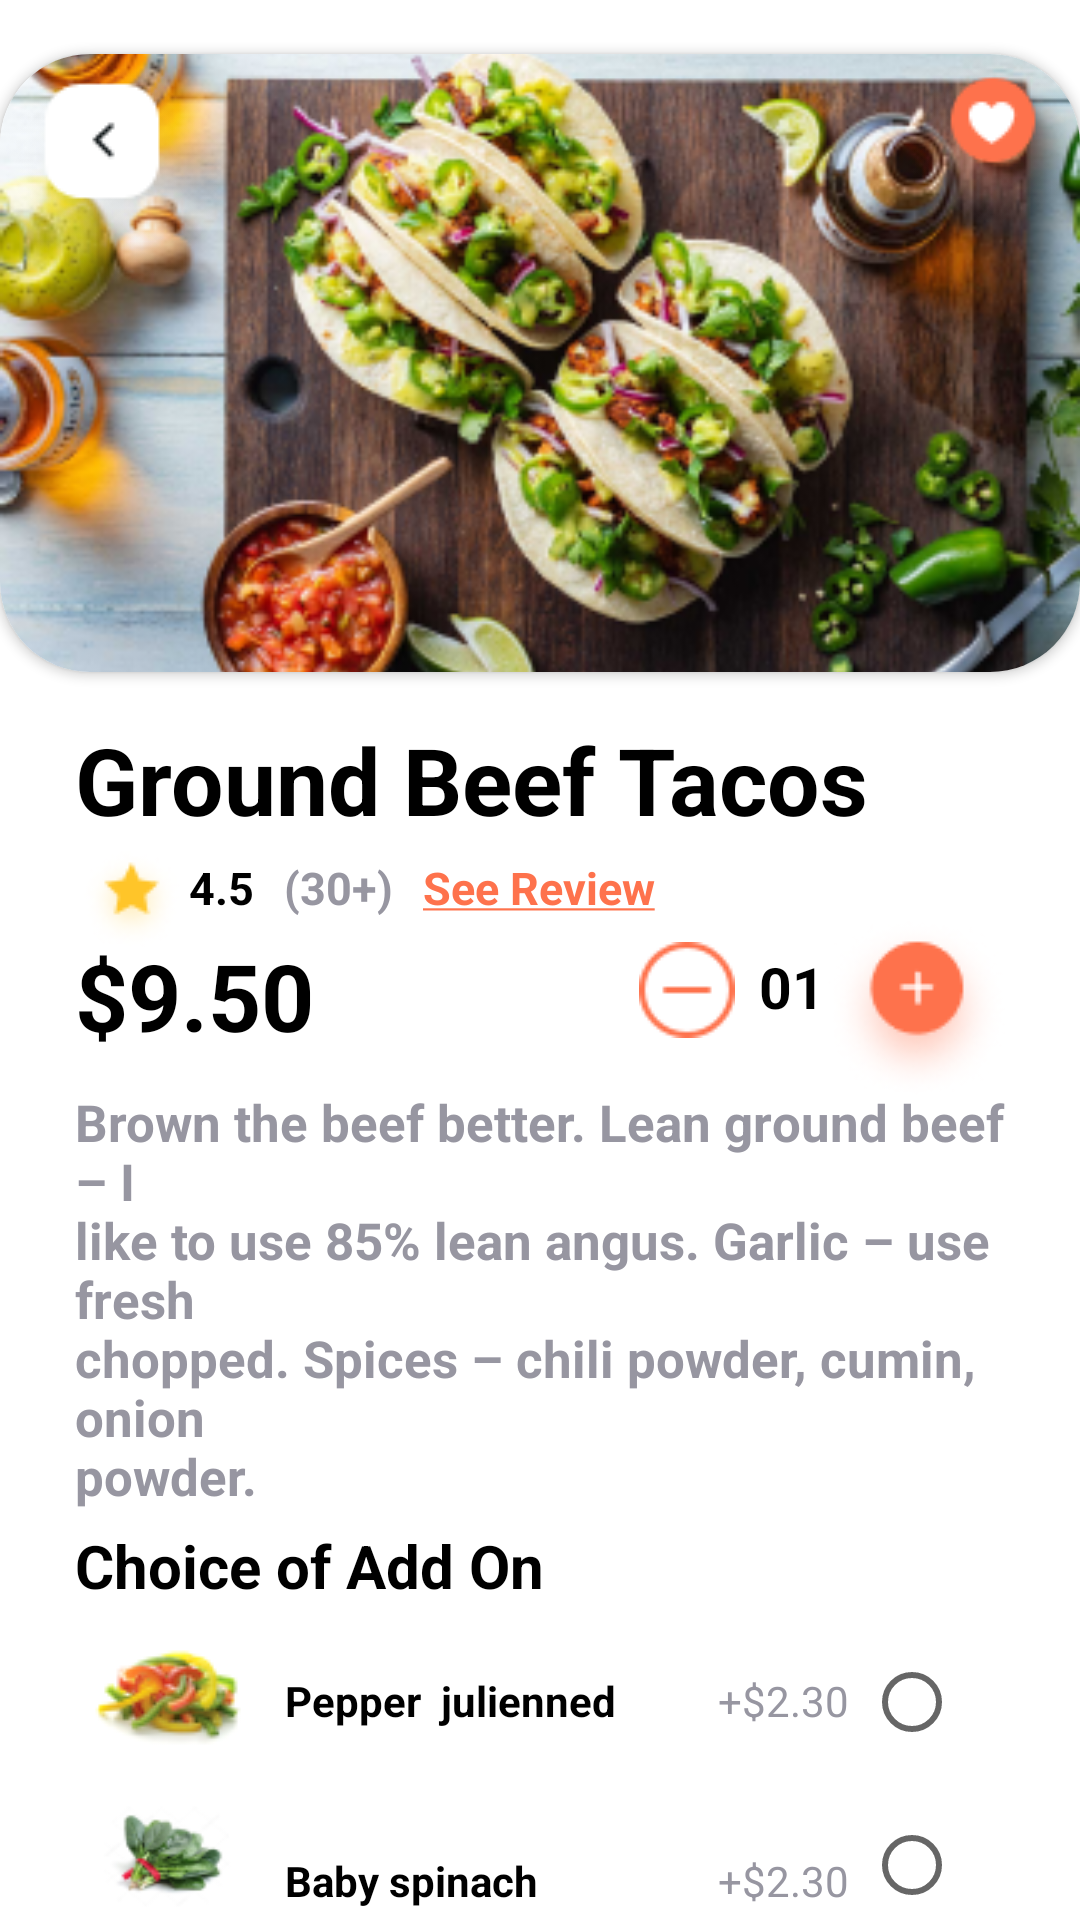

Named icons in this screenshot (1080w x 1920h) and their bounding boxes, (x1, y1, x2, y2):
detailedplus: (867, 941, 967, 1060)
detailedstar: (104, 862, 160, 922)
detminus: (639, 942, 735, 1038)
